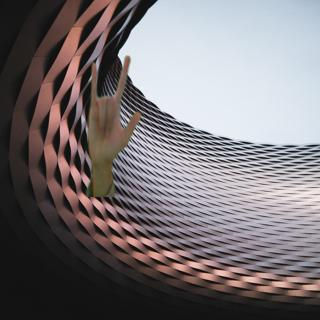ILY: (84, 52, 143, 168)
